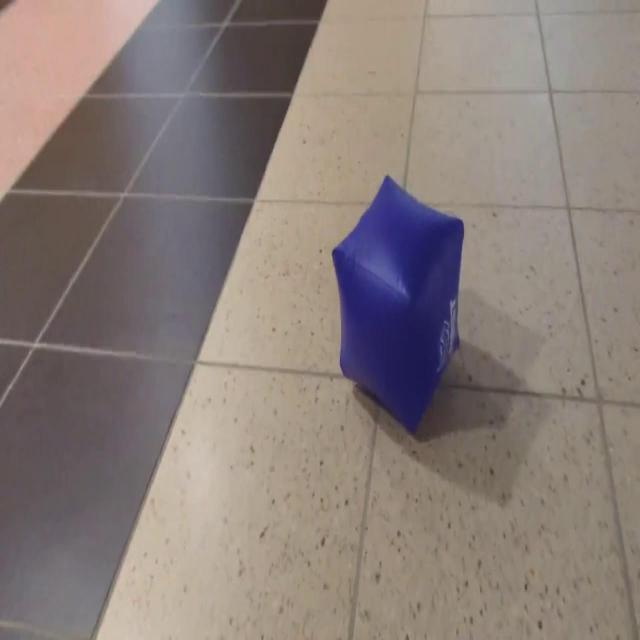frc_cube: (332, 176, 462, 427)
